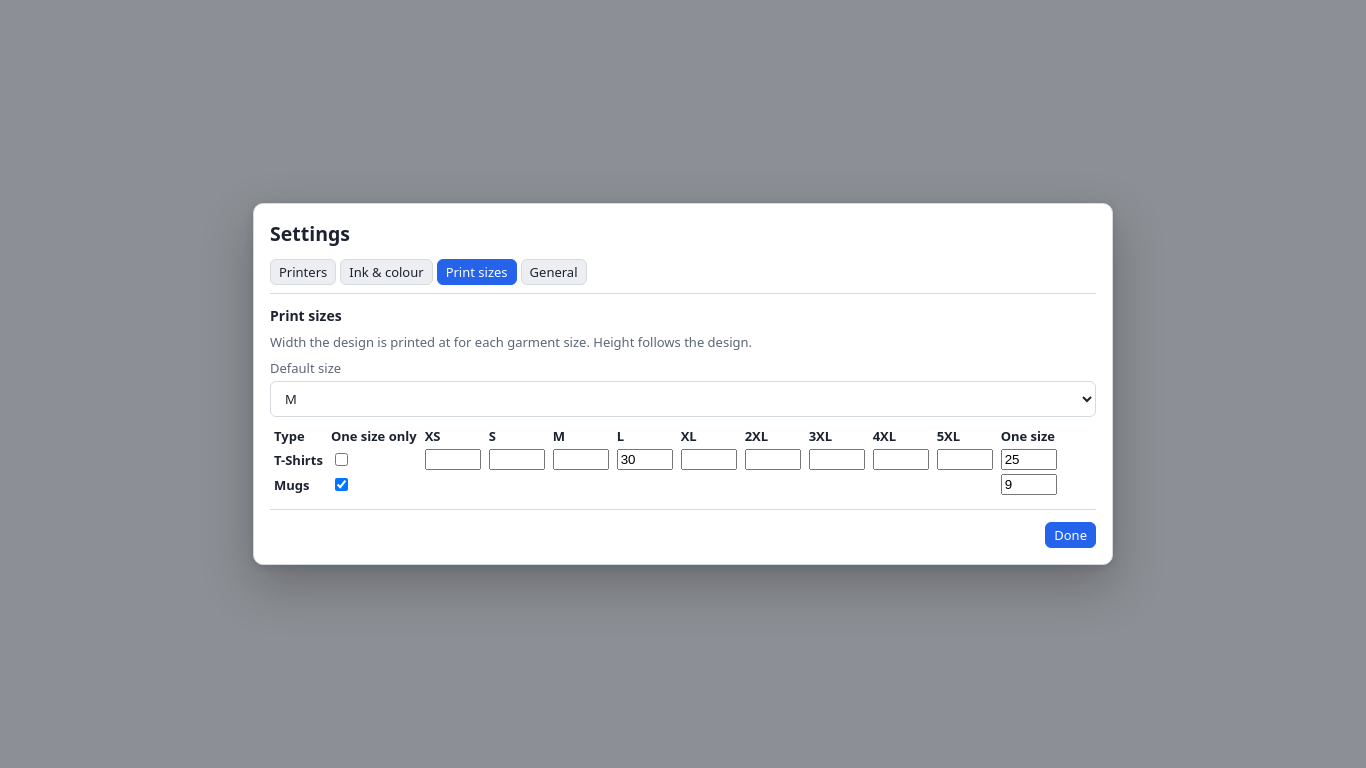
Scenario: Settings › Print sizes › "One size only" is remembered and only hides the per-size widths, which come back when turned off
Check: the checkbox named "Mugs: One size only" is checked, box top-left (335, 478), bottom-right (348, 490)
What coordinates should you click on to do the following:
click the checkbox named "T-Shirts: One size only"
I would click on:
 (341, 459)
Its box is top-left (335, 452), bottom-right (348, 466).
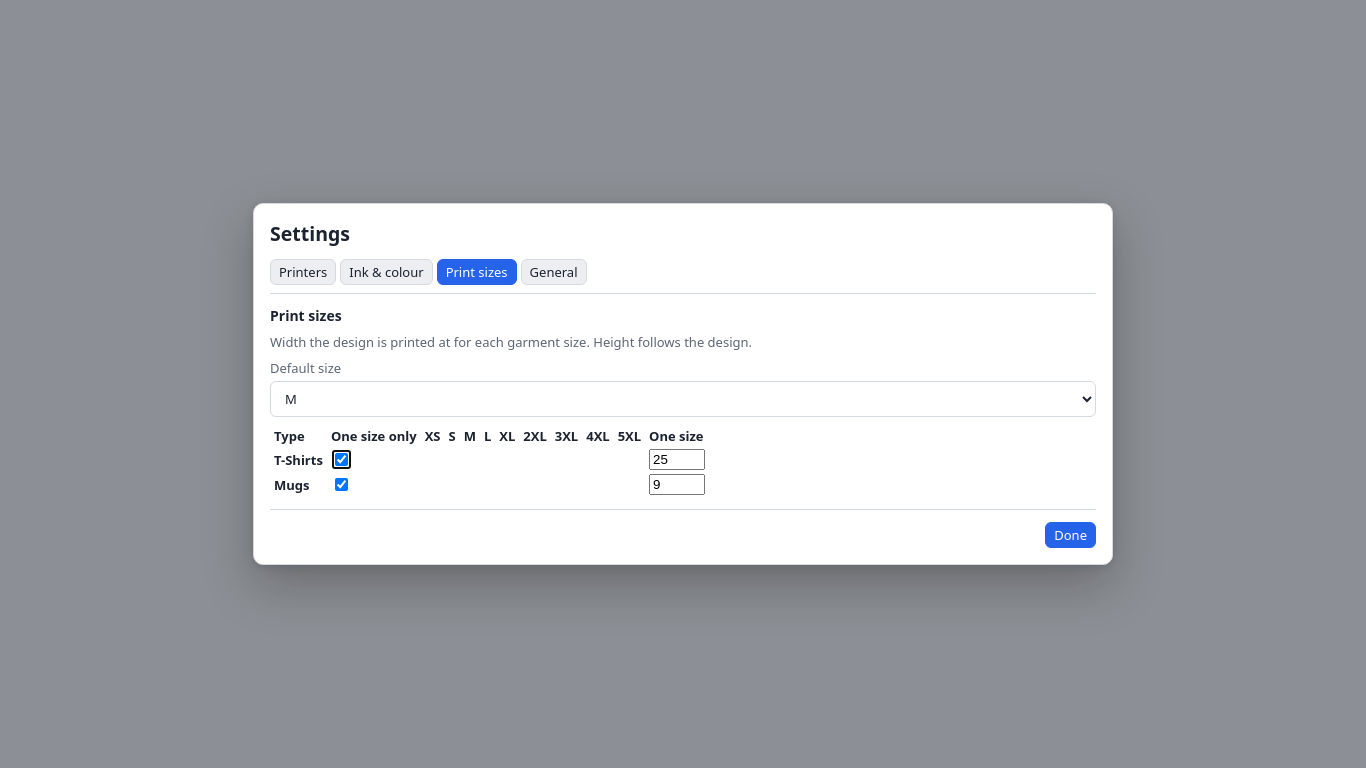
What coordinates should you click on to do the following:
click the checkbox named "T-Shirts: One size only"
I would click on:
 (341, 459)
Its box is top-left (335, 452), bottom-right (348, 466).
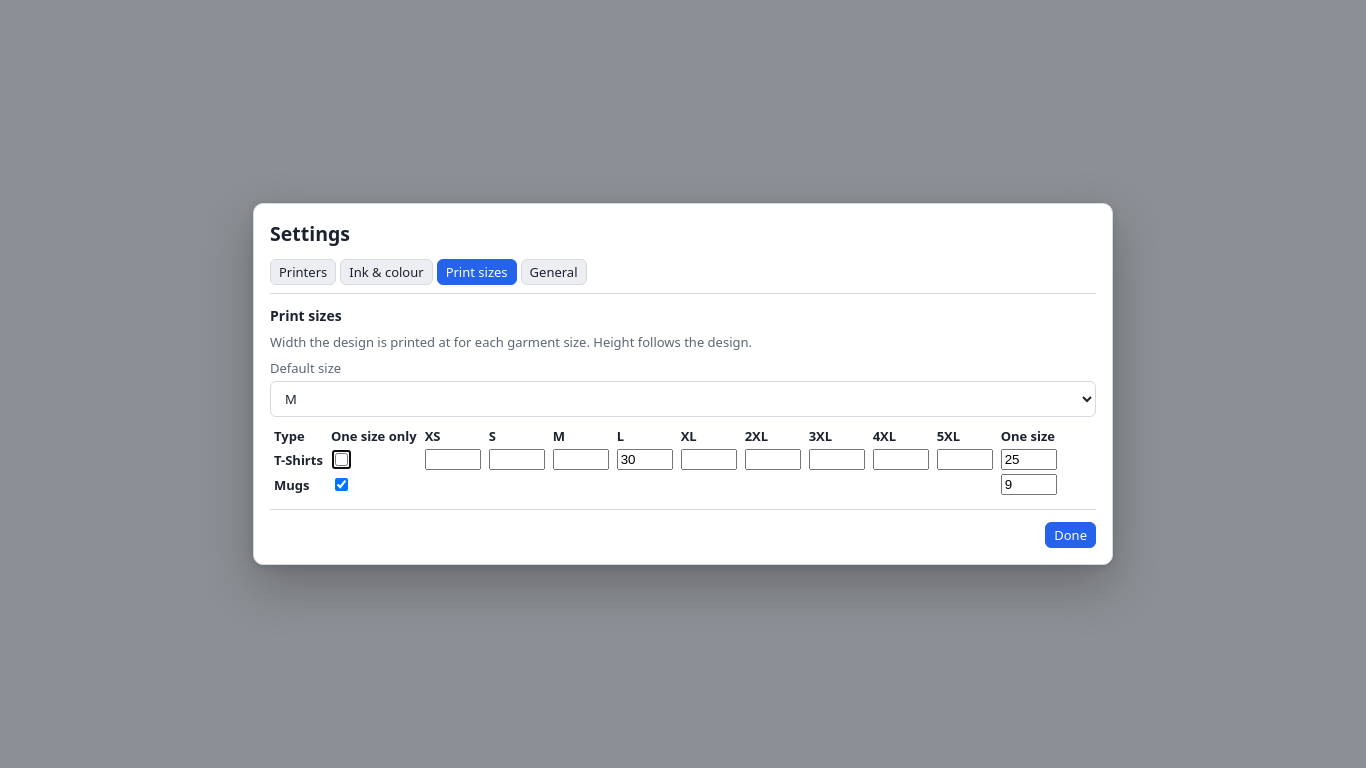
Check: the number field named "T-Shirts L width (cm)" holds "30", box top-left (617, 449), bottom-right (673, 470)
